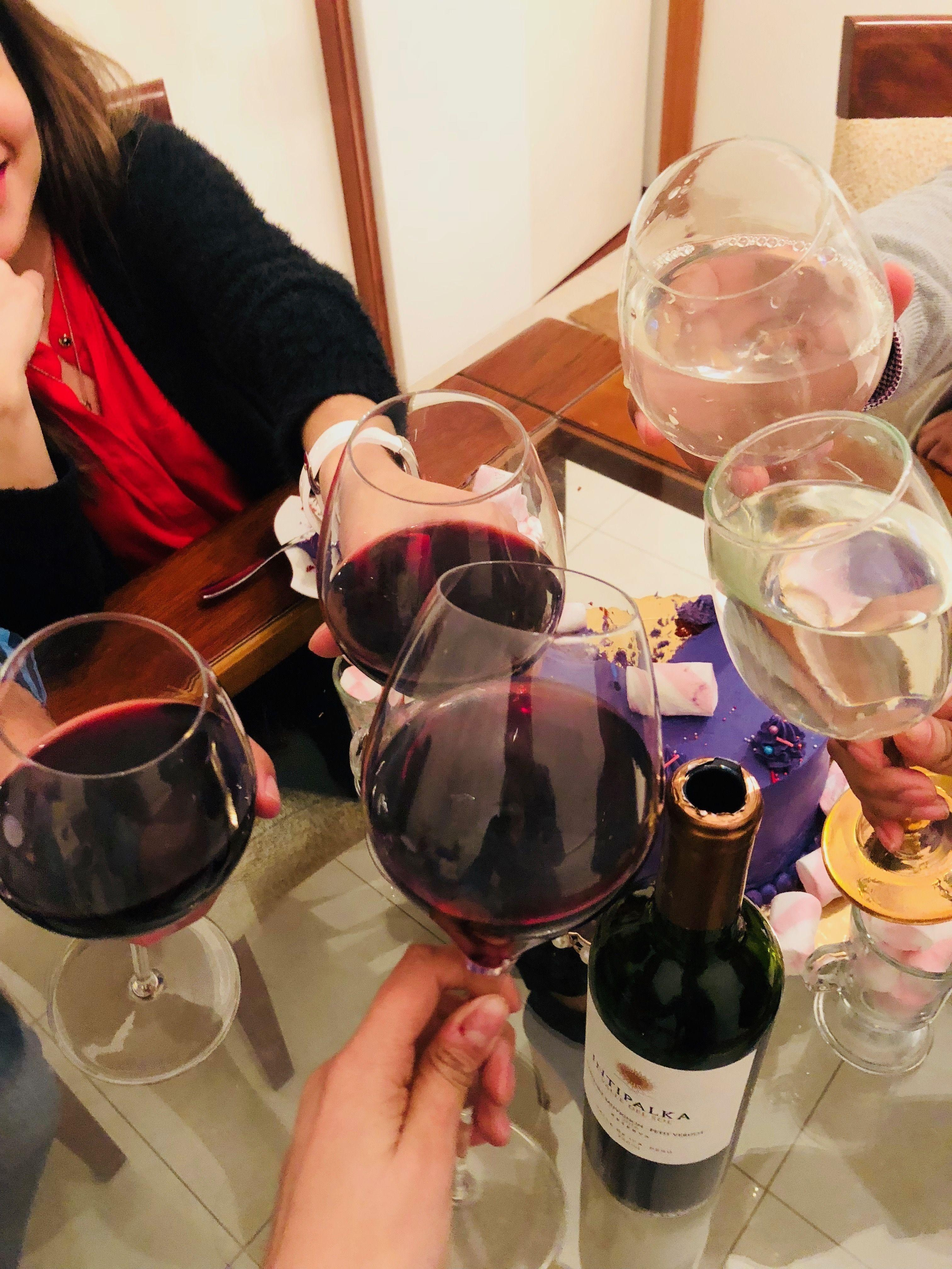bottle-glass: (570, 749, 782, 1220)
glass-wine: (340, 539, 672, 1267), (315, 393, 572, 1047), (701, 407, 952, 909), (0, 608, 262, 1086), (614, 131, 897, 511)
